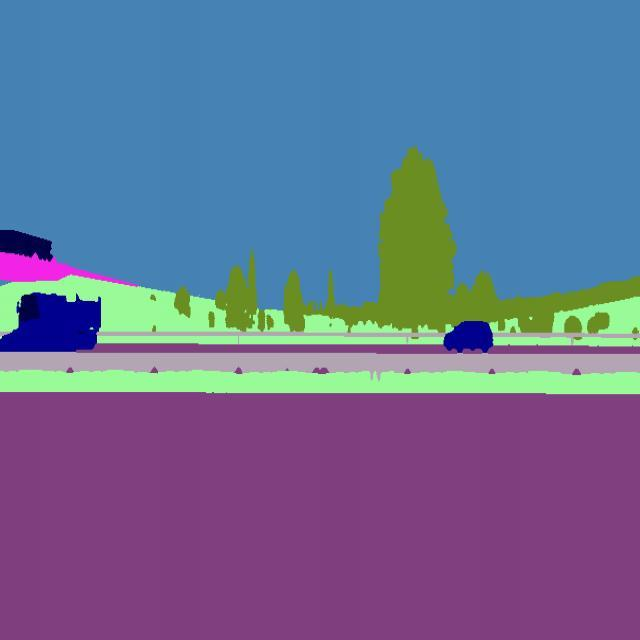safe: (0, 285, 109, 358), (441, 313, 496, 356)
